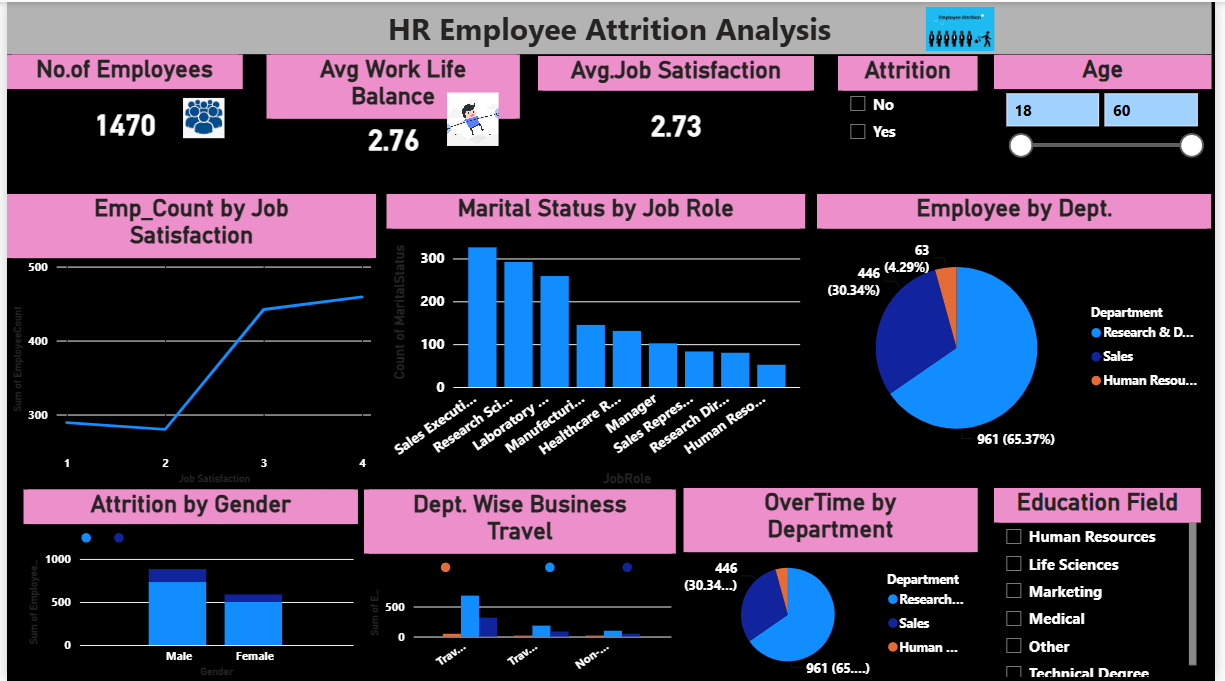

Layout of this report page (visuals, bound fields, positions):
{"tool":"powerbi","page":{"name":"Attrition dashboard","canvas":[1280,720],"ordinal":0},"visuals":[{"type":"textbox","box":[0,0,1277.6,55.1],"z":0},{"type":"clusteredColumnChart","title":" Marital Status by Job Role","fields":{"Category":["WA_Fn-UseC_-HR-Employee-Attrition.JobRole"],"Y":["CountNonNull(WA_Fn-UseC_-HR-Employee-Attrition.MaritalStatus)"]},"box":[402.4,203.6,443.8,313.4],"z":1000},{"type":"lineChart","title":"Emp_Count by Job Satisfaction","fields":{"Category":["WA_Fn-UseC_-HR-Employee-Attrition.JobSatisfaction"],"Y":["Sum(WA_Fn-UseC_-HR-Employee-Attrition.EmployeeCount)"]},"box":[0,203.6,391.3,311.8],"z":2000},{"type":"pieChart","title":" OverTime by Department","fields":{"Category":["WA_Fn-UseC_-HR-Employee-Attrition.Department"],"Y":["CountNonNull(WA_Fn-UseC_-HR-Employee-Attrition.OverTime)"]},"box":[717.4,515.4,311.8,205.2],"z":3000},{"type":"slicer","title":"Education Field","fields":{"Values":["WA_Fn-UseC_-HR-Employee-Attrition.EducationField"]},"box":[1046.6,515.4,219.5,205.2],"z":4000},{"type":"pieChart","title":"Employee by Dept.","fields":{"Category":["WA_Fn-UseC_-HR-Employee-Attrition.Department"],"Y":["Sum(WA_Fn-UseC_-HR-Employee-Attrition.EmployeeCount)"]},"box":[858.9,203.6,418.3,294.3],"z":5000},{"type":"slicer","title":"Age","fields":{"Values":["WA_Fn-UseC_-HR-Employee-Attrition.Age"]},"box":[1046.6,55.7,230.6,114.5],"z":6000},{"type":"card","title":"No.of Employees","fields":{"Values":["Sum(WA_Fn-UseC_-HR-Employee-Attrition.EmployeeCount)"]},"box":[0,55.7,249.7,112.9],"z":7000},{"type":"card","title":"Avg.Job Satisfaction","fields":{"Values":["WA_Fn-UseC_-HR-Employee-Attrition.Avg. Job Satisfaction"]},"box":[563.1,57.3,292.7,112.9],"z":8000},{"type":"card","title":"Avg Work Life Balance","fields":{"Values":["WA_Fn-UseC_-HR-Employee-Attrition.Avg Work Life Balance"]},"box":[275.2,55.7,268.8,112.9],"z":9000},{"type":"clusteredColumnChart","title":"Dept. Wise Business Travel","fields":{"Category":["WA_Fn-UseC_-HR-Employee-Attrition.BusinessTravel"],"Series":["WA_Fn-UseC_-HR-Employee-Attrition.Department"],"Y":["Sum(WA_Fn-UseC_-HR-Employee-Attrition.EmployeeCount)"]},"box":[378.6,516.9,330.8,203.6],"z":10000},{"type":"slicer","title":"Attrition","fields":{"Values":["WA_Fn-UseC_-HR-Employee-Attrition.Attrition"]},"box":[881.2,57.3,147.9,100.2],"z":11000},{"type":"columnChart","title":"Attrition by Gender","fields":{"Category":["WA_Fn-UseC_-HR-Employee-Attrition.Gender"],"Series":["WA_Fn-UseC_-HR-Employee-Attrition.Attrition"],"Y":["Sum(WA_Fn-UseC_-HR-Employee-Attrition.EmployeeCount)"]},"box":[17.5,516.9,354.7,203.6],"z":12000},{"type":"image","box":[905.1,0,211.6,57.3],"z":13000},{"type":"image","box":[181.3,89.1,54.1,68.4],"z":14000},{"type":"image","box":[461.3,90.7,65.2,66.8],"z":15000}]}

Visuals, with their boxes in screenshot pixels (x1, y1, x2, y2), scaled from the page's 1280x720 canvas onto the 1225x681 screenshot:
textbox: left=0, top=0, right=1223, bottom=52
" Marital Status by Job Role" clusteredColumnChart: left=385, top=193, right=810, bottom=489
"Emp_Count by Job Satisfaction" lineChart: left=0, top=193, right=374, bottom=487
" OverTime by Department" pieChart: left=687, top=487, right=985, bottom=680
"Education Field" slicer: left=1002, top=487, right=1212, bottom=680
"Employee by Dept." pieChart: left=822, top=193, right=1222, bottom=471
"Age" slicer: left=1002, top=53, right=1222, bottom=161
"No.of Employees" card: left=0, top=53, right=239, bottom=159
"Avg.Job Satisfaction" card: left=539, top=54, right=819, bottom=161
"Avg Work Life Balance" card: left=263, top=53, right=521, bottom=159
"Dept. Wise Business Travel" clusteredColumnChart: left=362, top=489, right=679, bottom=680
"Attrition" slicer: left=843, top=54, right=985, bottom=149
"Attrition by Gender" columnChart: left=17, top=489, right=356, bottom=680
image: left=866, top=0, right=1069, bottom=54
image: left=174, top=84, right=225, bottom=149
image: left=441, top=86, right=504, bottom=149
